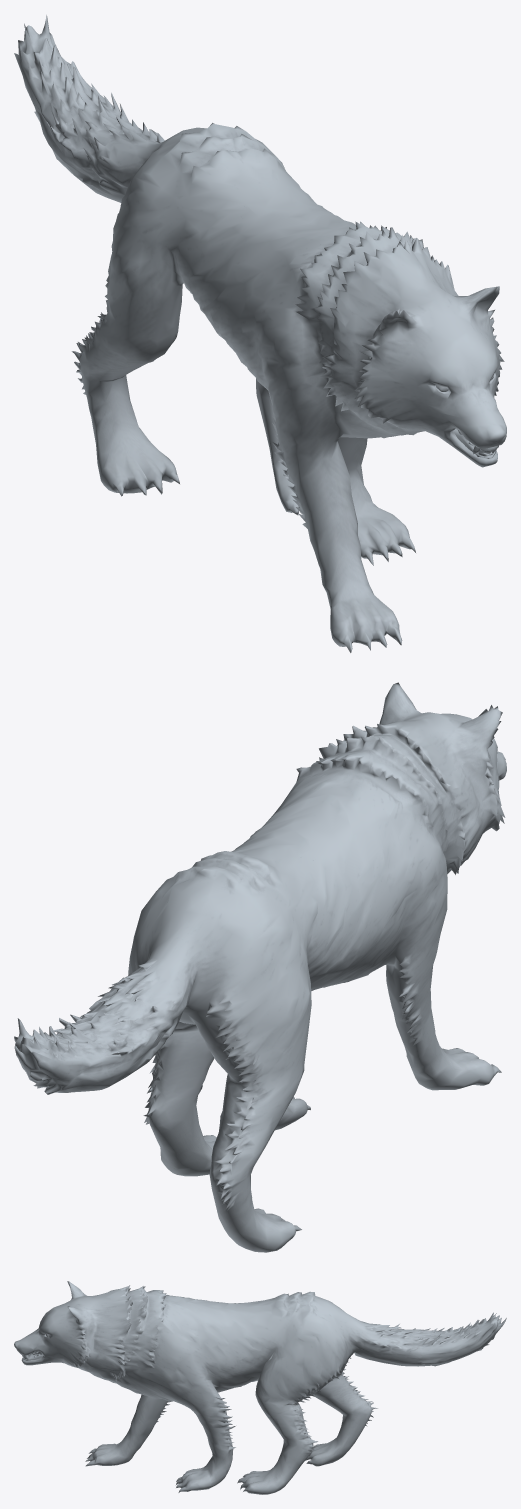
Rendered from dire_wolf.glb.
3 renders of one model, top to bottom at view 1: azimuth 30°, elevation 25°; view 2: azimuth 150°, elevation 25°; view 3: azimuth 270°, elevation 25°, orthographic. The views are drawn at different scales.
Parts seen in each view (by area): view 1: Wolfey2.001; view 2: Wolfey2.001; view 3: Wolfey2.001.
Boxes of the visible parts, bbox=[...] form: Wolfey2.001: bbox=[14, 15, 506, 652]; Wolfey2.001: bbox=[14, 682, 506, 1252]; Wolfey2.001: bbox=[14, 1281, 506, 1494].
Bounding box in the file's own units: 44.43 × 88.63 × 209.
Materials: 1 (1 with a texture image).
